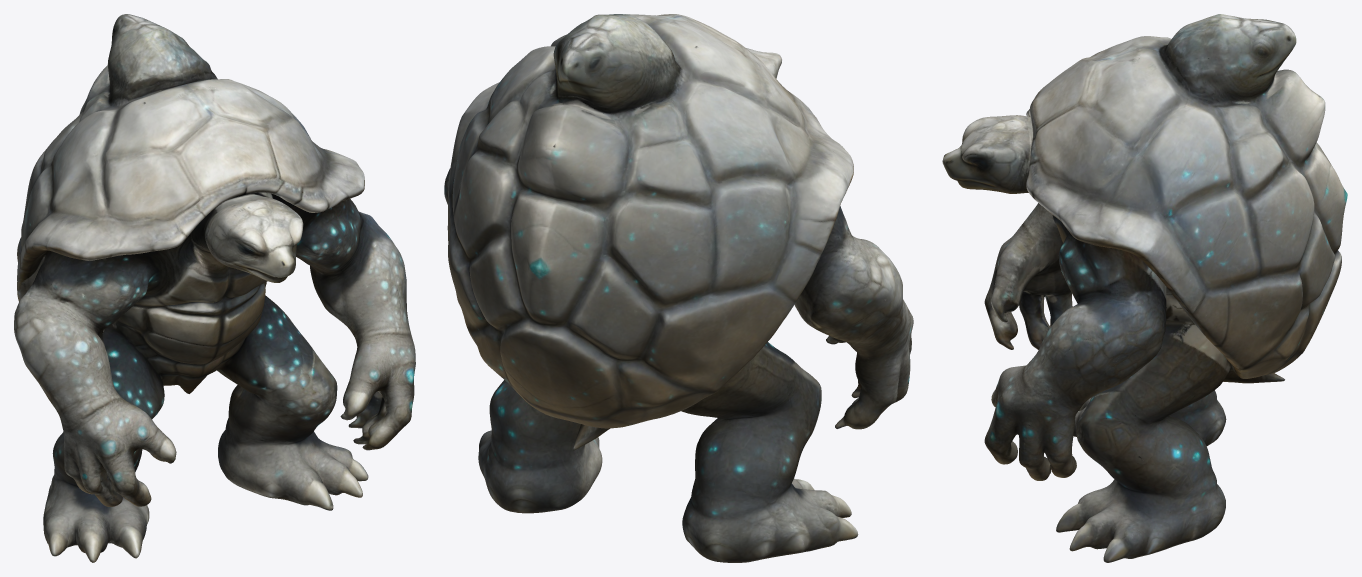
The model's file is Meshy_AI_fantasy_humanoid_ston_1115232750_texture.glb.
3 views of the same model, side by side, from view 1: azimuth 30°, elevation 25°; view 2: azimuth 150°, elevation 25°; view 3: azimuth 270°, elevation 25° (orthographic). The views are drawn at different scales.
Bounding box in the file's own units: 1.75 × 2 × 1.56.
Materials: 1 (1 with a texture image).
